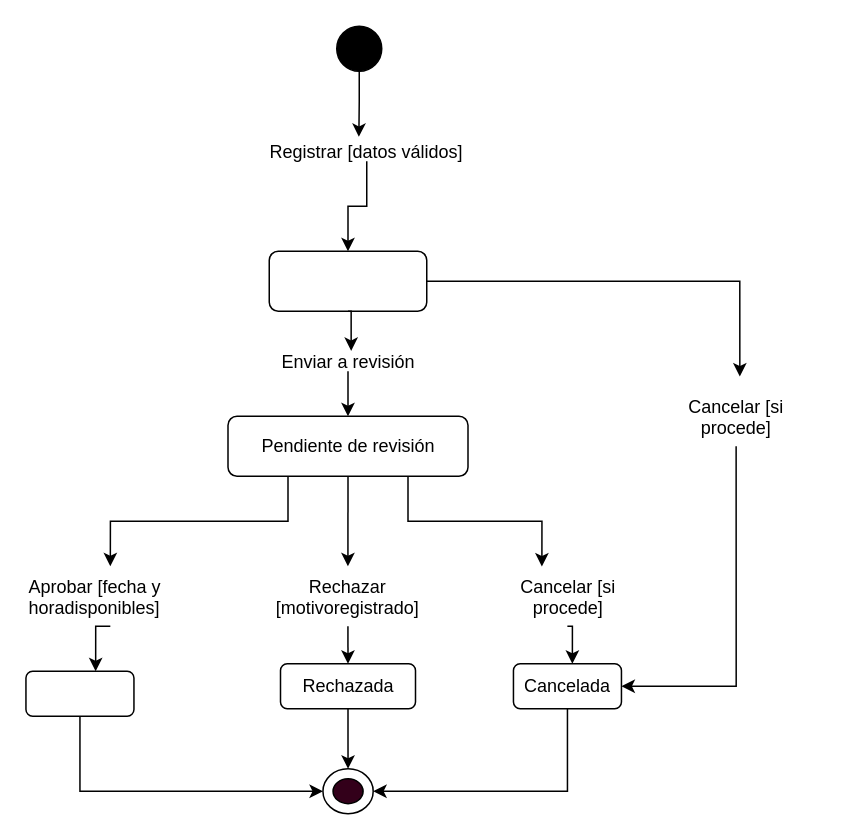
The diagram is 848 pixels wide and 840 high, and some of its shapes have lost their labels. Each missing label, with the centre of its shape:
"Aprobada" goes at point (79, 693).
"Registrada" goes at point (347, 280).
